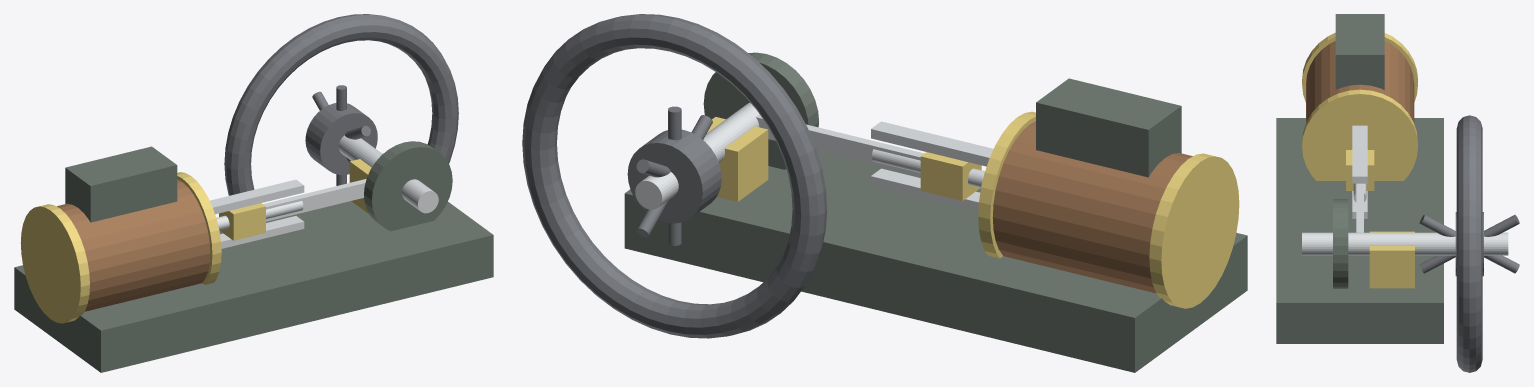
The model's file is steam_engine_drive.glb.
3 renders of one model, left to right at view 1: azimuth 30°, elevation 25°; view 2: azimuth 150°, elevation 25°; view 3: azimuth 270°, elevation 25°, orthographic. The views are drawn at different scales.
Visible parts, largest first — view 1: Cube, Cylinder, Torus, Cylinder.001, Cube.001, Cylinder.004, Cylinder.006, Cylinder.005, Cube.005, Cylinder.002, Cube.003, Cube.004 (+3 smaller); view 2: Cube, Torus, Cylinder, Cylinder.001, Cube.001, Cylinder.006, Cylinder.004, Cube.006, Cylinder.005, Cylinder.002, Cube.003, Cube.005 (+4 smaller); view 3: Cube, Cylinder.002, Torus, Cube.001, Cylinder, Cylinder.005, Cube.006, Cylinder.004, Cube.003, Cylinder.001, Cylinder.008, Cylinder.009 (+4 smaller).
Boxes of the visible parts, x1,y1,x2,y2 form: Cube: (14,201,493,372); Cylinder: (57,179,210,311); Torus: (224,14,458,195); Cylinder.001: (20,204,89,323); Cube.001: (65,146,177,222); Cylinder.004: (364,141,452,231); Cylinder.006: (305,103,377,174); Cylinder.005: (338,135,438,213); Cube.005: (263,179,366,221); Cylinder.002: (177,172,221,284); Cube.003: (210,179,304,214); Cube.004: (219,203,265,240); Cube: (624,151,1247,372); Torus: (522,14,827,338); Cylinder: (992,121,1192,293); Cylinder.001: (1149,153,1239,308); Cube.001: (1036,78,1181,177); Cylinder.006: (627,129,721,223); Cylinder.004: (703,52,818,169); Cube.006: (707,117,768,201); Cylinder.005: (635,102,759,209); Cylinder.002: (978,111,1035,258); Cube.003: (871,121,993,166); Cube.005: (756,114,923,176); Cube: (1276,118,1443,343); Cylinder.002: (1302,89,1417,180); Torus: (1456,115,1482,372); Cube.001: (1335,14,1384,89); Cylinder: (1306,41,1414,122); Cylinder.005: (1302,232,1508,255); Cube.006: (1369,231,1414,288); Cylinder.004: (1333,199,1348,288); Cube.003: (1352,125,1367,183); Cylinder.001: (1302,32,1417,102); Cylinder.008: (1420,215,1519,273); Cylinder.009: (1419,215,1519,273).
Size of the model in its own units: 4.01 by 2 by 1.89.
